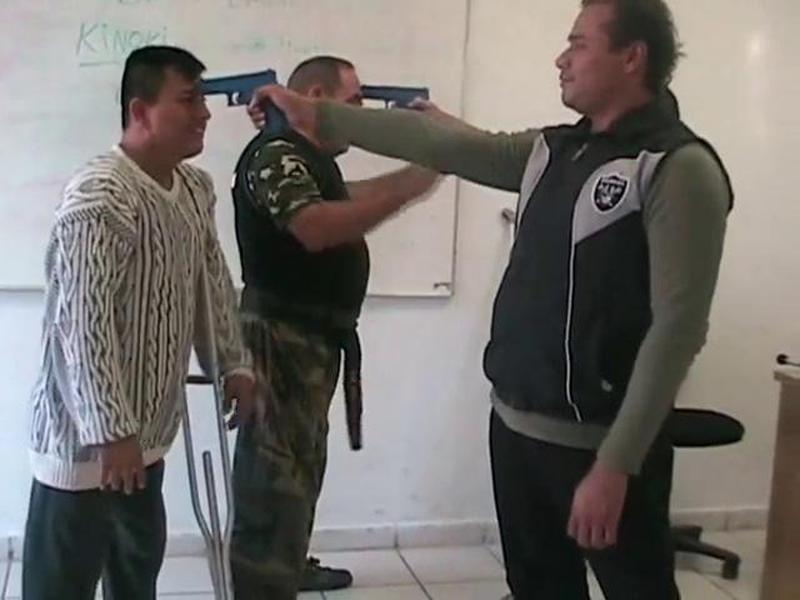Pistola: (190, 51, 295, 149)
